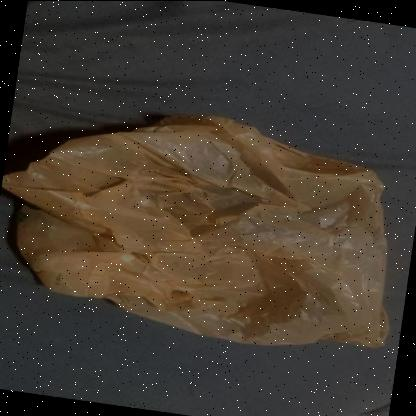Others: (0, 113, 382, 352)
